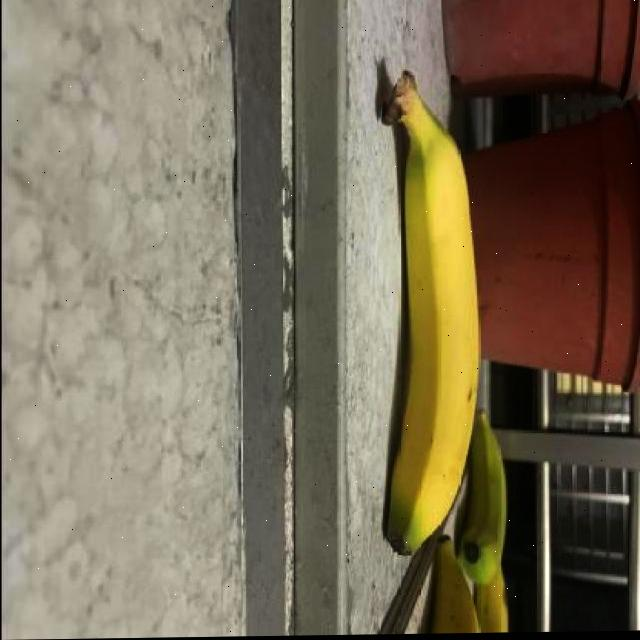banana: (368, 57, 492, 558), (450, 406, 521, 589)
